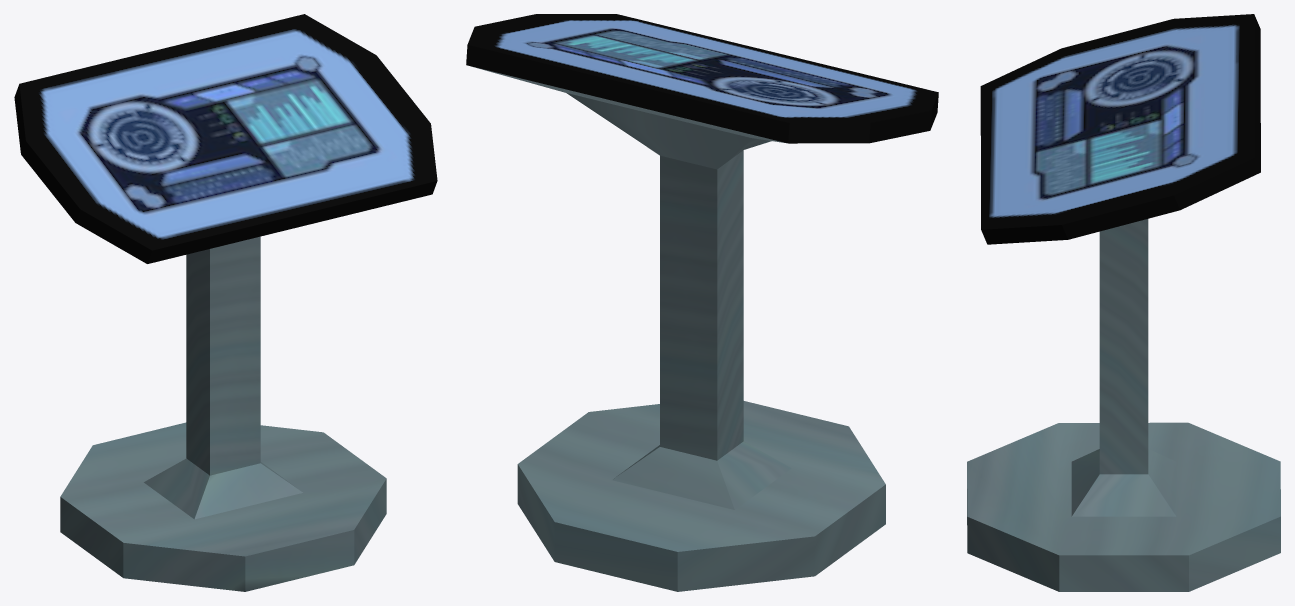
Rendered from console.fbx.
The picture shows the model from 3 angles, left to right: view 1: azimuth 30°, elevation 25°; view 2: azimuth 150°, elevation 25°; view 3: azimuth 270°, elevation 25°; orthographic projection. The views are drawn at different scales.
Parts seen in each view (by area): view 1: Cylinder; view 2: Cylinder; view 3: Cylinder.
Part boxes in pixels (x1,y1,x2,y2): Cylinder: (14,14,437,591); Cylinder: (466,14,938,591); Cylinder: (967,14,1280,591).
Size of the model in its own units: 247 by 185 by 286.
